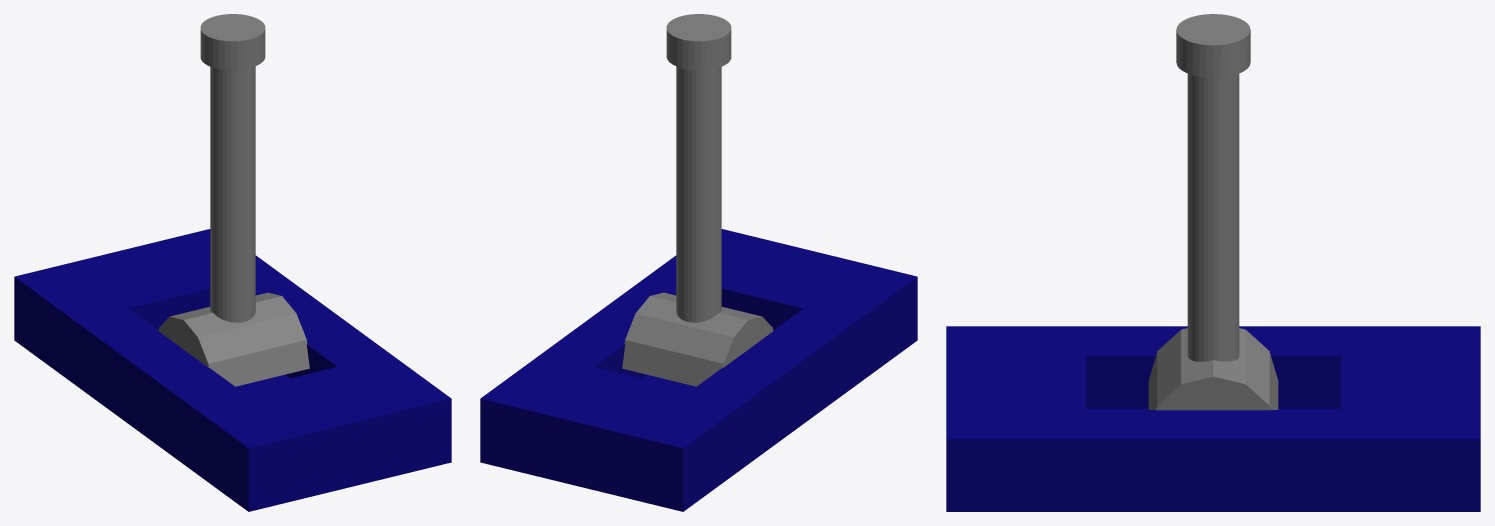
Rendered from Lever.fbx.
3 views of the same model, side by side, from view 1: azimuth 30°, elevation 25°; view 2: azimuth 150°, elevation 25°; view 3: azimuth 270°, elevation 25° (orthographic). The views are drawn at different scales.
Parts seen in each view (by area): view 1: Cube, Cylinder, Cube.001; view 2: Cube, Cylinder, Cube.001; view 3: Cube, Cylinder, Cube.001.
Part boxes in pixels (bbox=[...]): Cube: bbox=[14, 229, 451, 511]; Cylinder: bbox=[200, 14, 265, 322]; Cube.001: bbox=[158, 292, 309, 386]; Cube: bbox=[480, 229, 917, 511]; Cylinder: bbox=[666, 14, 731, 322]; Cube.001: bbox=[622, 292, 773, 386]; Cube: bbox=[946, 326, 1480, 511]; Cylinder: bbox=[1176, 14, 1250, 361]; Cube.001: bbox=[1148, 328, 1278, 410].
Bounding box in the file's own units: 200 × 352 × 400.
